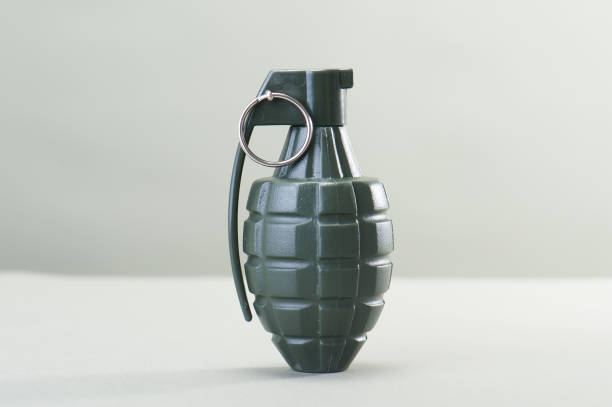e1: (224, 64, 397, 375)
